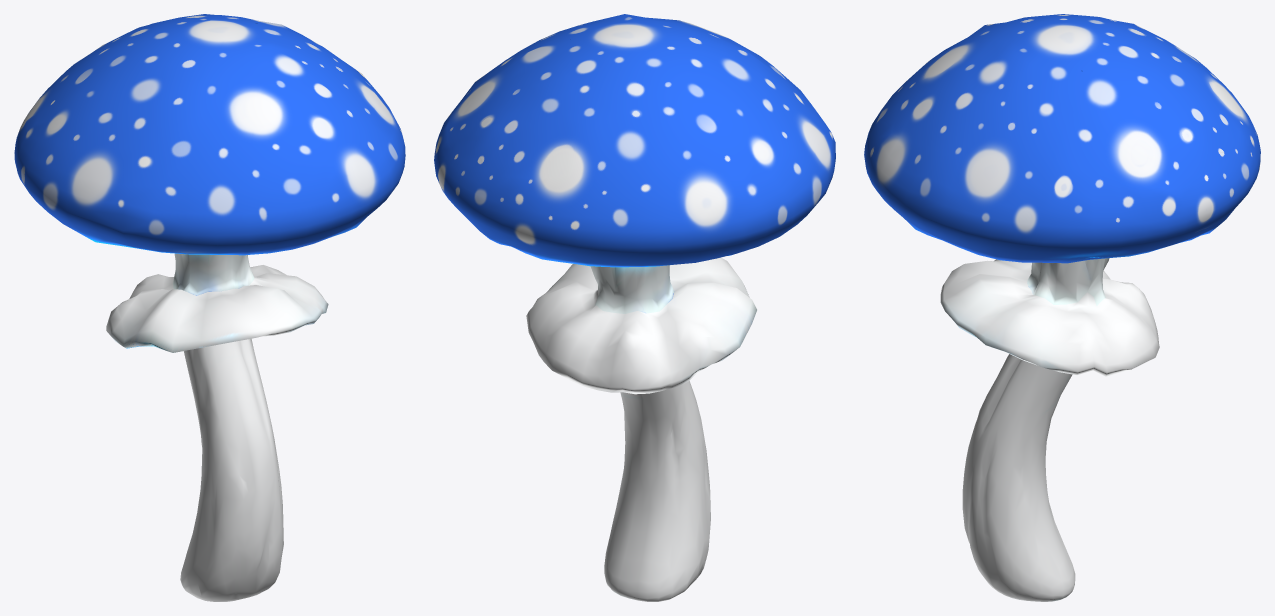
The model's file is glow_mushroom.fbx.
The picture shows the model from 3 angles, left to right: view 1: azimuth 30°, elevation 25°; view 2: azimuth 150°, elevation 25°; view 3: azimuth 270°, elevation 25°; orthographic projection. The views are drawn at different scales.
Visible parts, largest first — view 1: pCube1; view 2: pCube1; view 3: pCube1.
Part boxes in pixels (x1,y1,x2,y2): pCube1: (14, 14, 405, 601); pCube1: (434, 14, 835, 601); pCube1: (864, 14, 1260, 601).
Size of the model in its own units: 37.33 by 57.89 by 37.25.
1 material, 1 textured.
